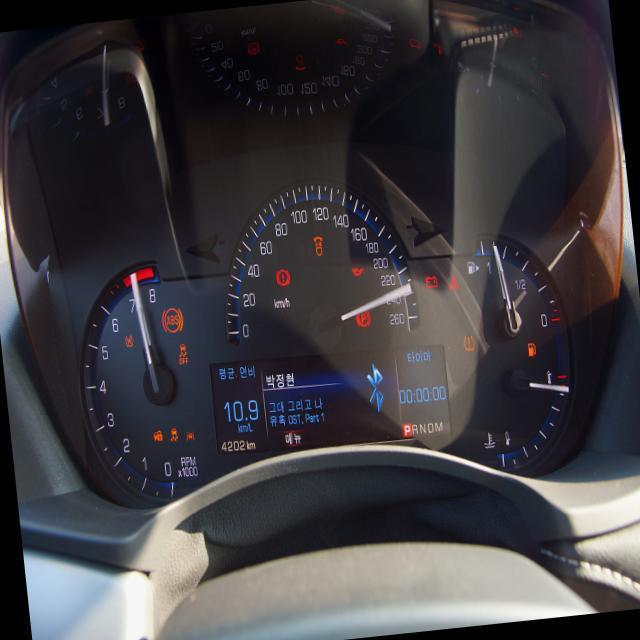Engine cooling system: (445, 272, 459, 290)
Low fuel level: (525, 340, 536, 356)
